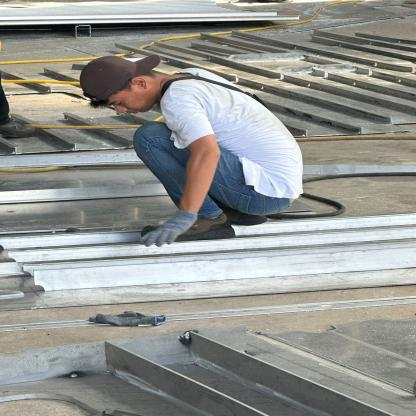bota: (154, 213, 238, 240)
